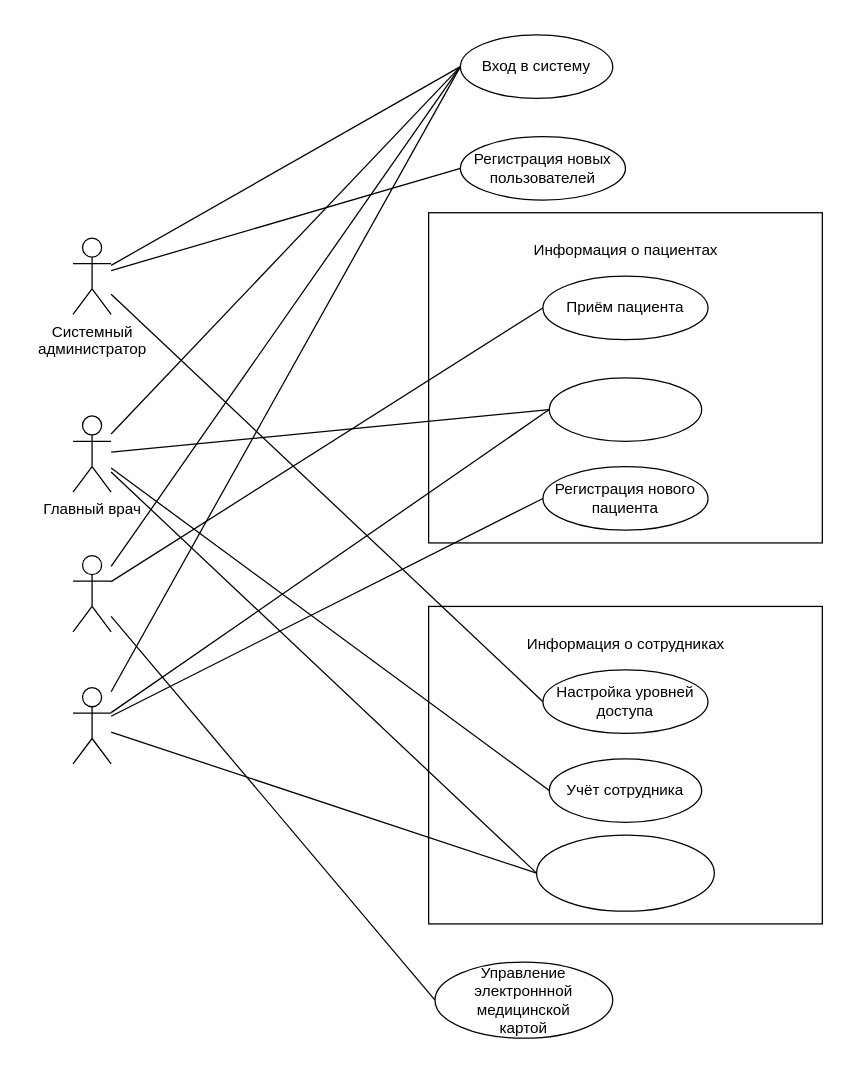
Image size: 856x1085. Some labels were removed from this diagram. Each missing label, with the box of its shape:
Врач: (72, 554, 111, 632)
Просмотр расписания врачей и кабинетов: (535, 834, 714, 911)
Работник регистратуры: (72, 686, 111, 764)
Учёт пациента: (548, 377, 702, 441)
